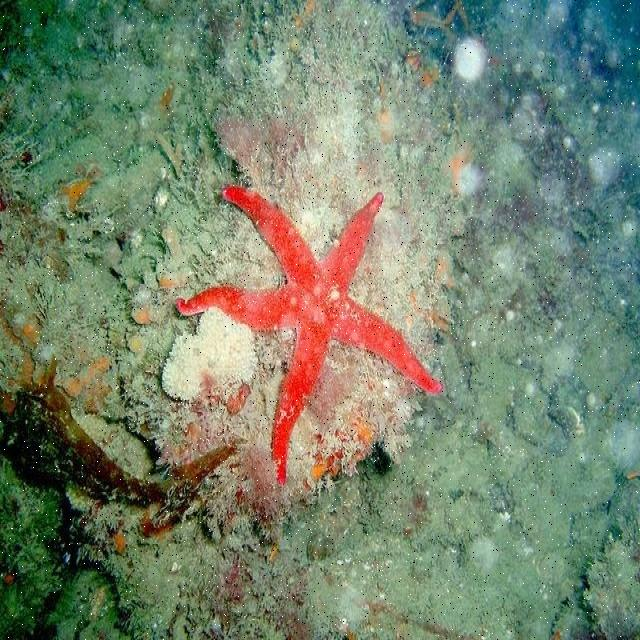reefs: (162, 183, 444, 487)
